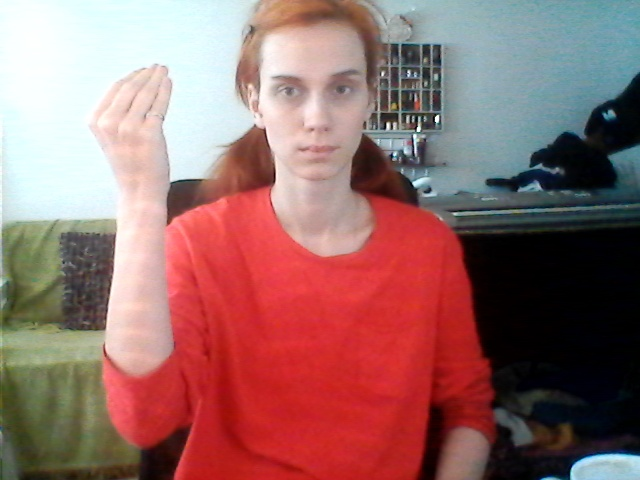domov: (77, 57, 285, 195)
